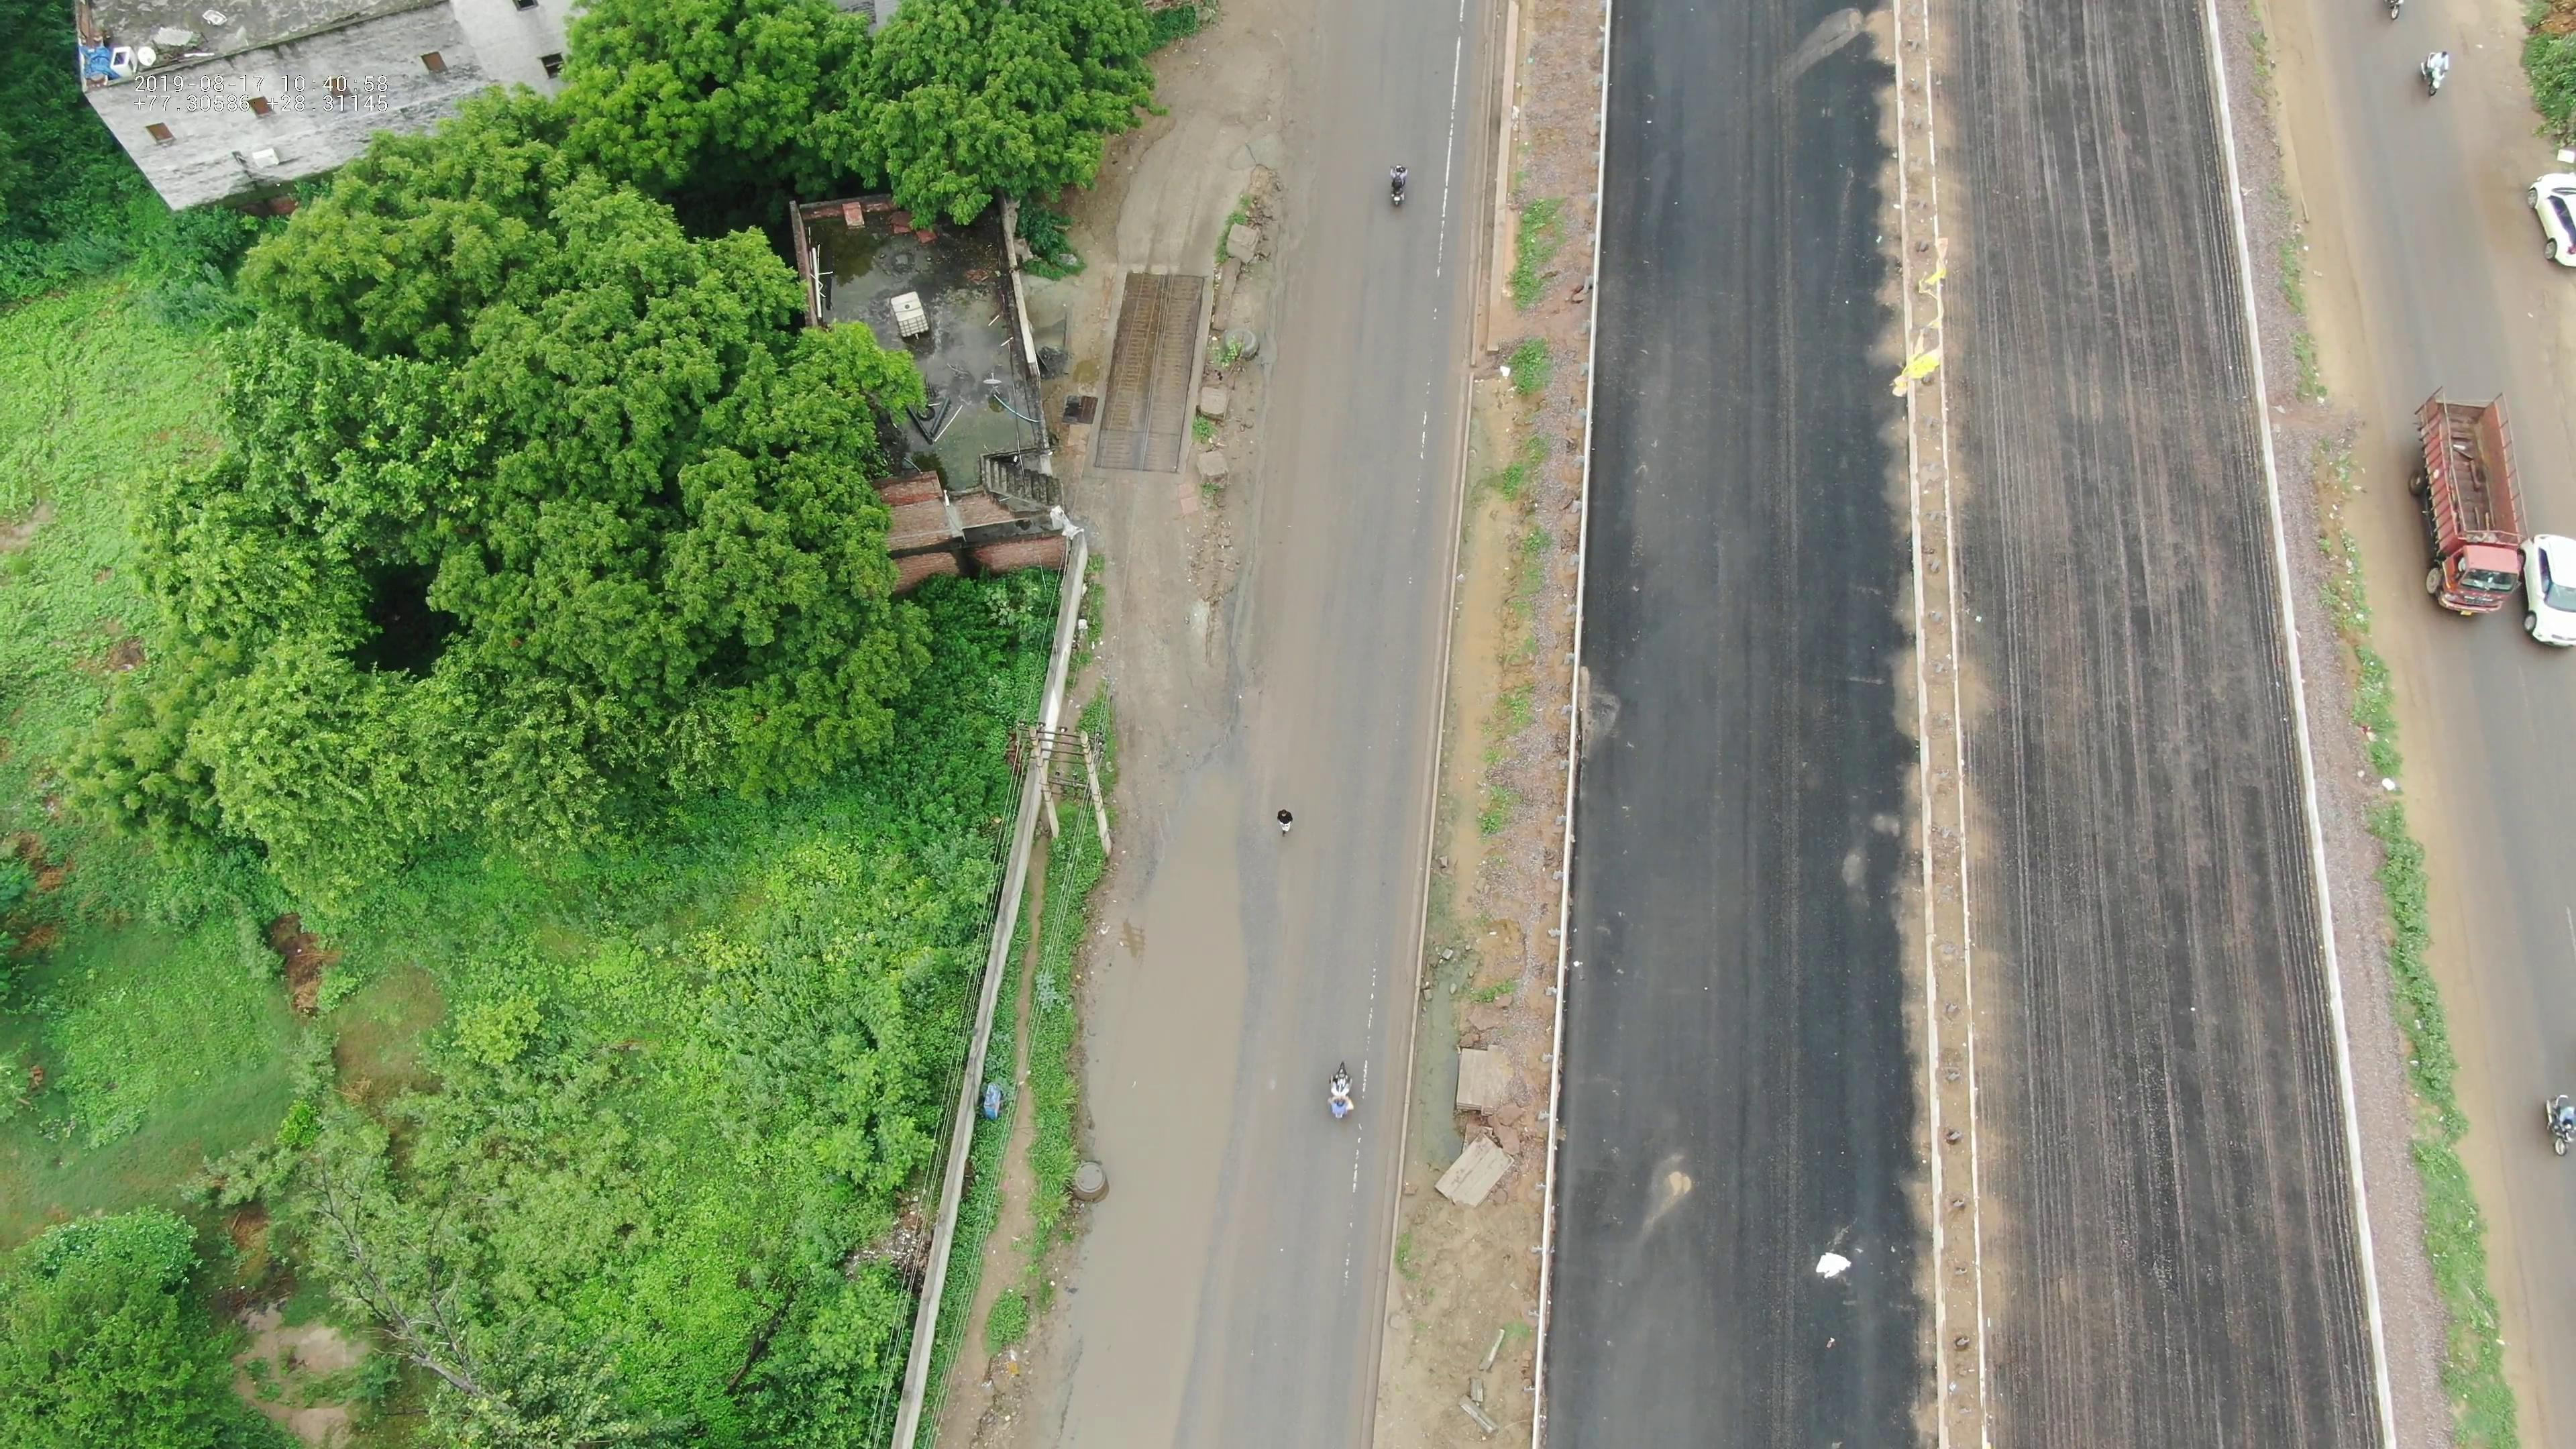Waterlogging: (1104, 849, 1233, 1304)
